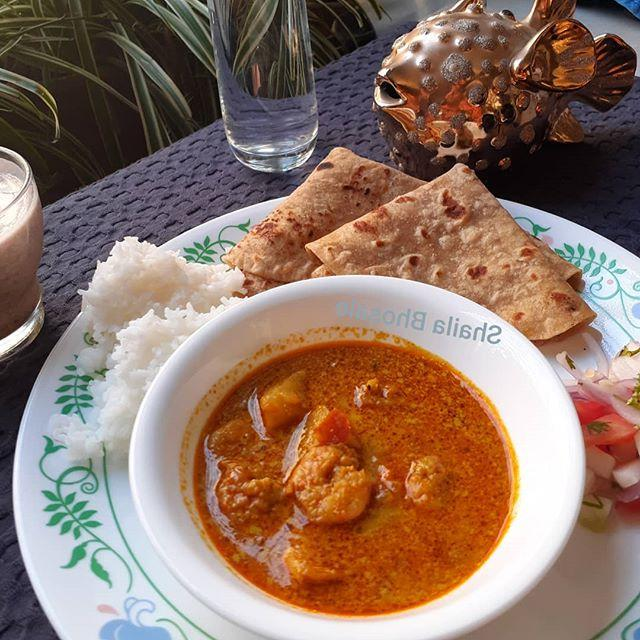Roti: (322, 182, 572, 322), (234, 138, 425, 302)
White Rice: (57, 237, 246, 441)
